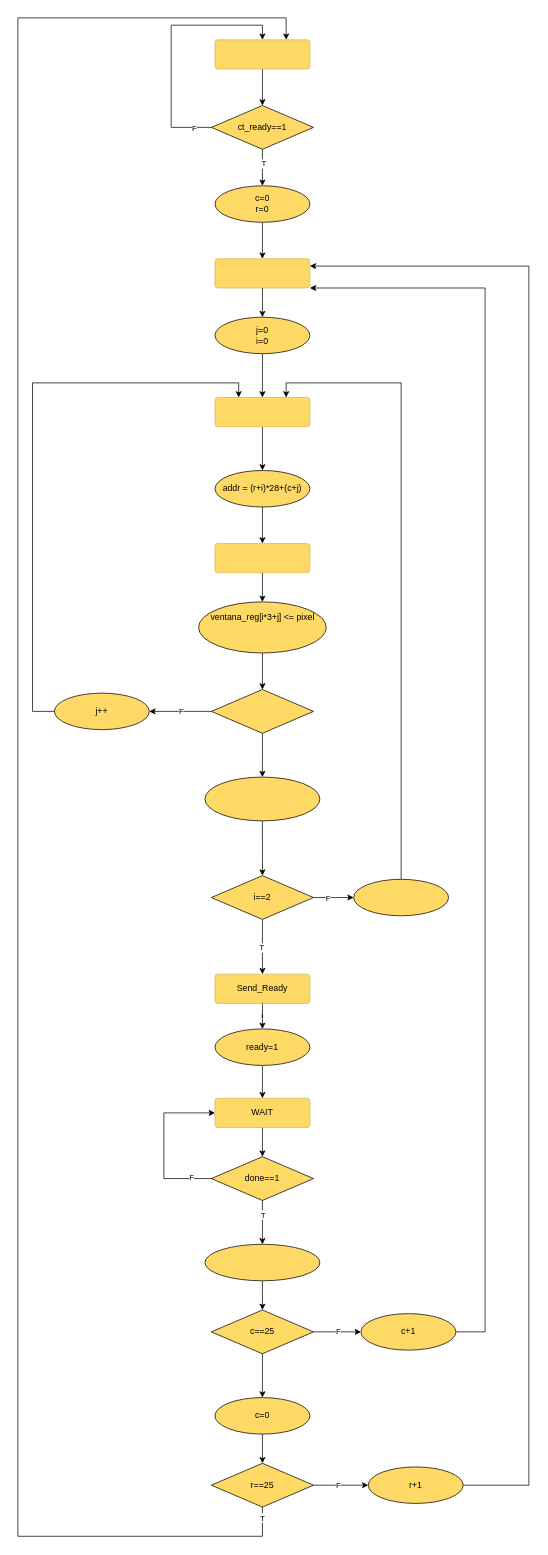
Image size: 548x1555. Some labels were removed from this diagram. Here are the shapes that lost their labels. From the top down, the box of each, then its label:
(214, 39, 310, 69): IDLE
(214, 258, 310, 288): CLR
(214, 397, 310, 427): READ_ADDR
(214, 543, 310, 573): READ_DATA
(211, 689, 314, 733): j==2
(204, 776, 320, 821): j==0
(353, 879, 449, 916): i++
(204, 1244, 320, 1281): BRAM_out[r*26+c] <= accr;
